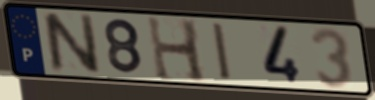3: (310, 24, 357, 92)
4: (260, 23, 308, 87)
8: (102, 16, 146, 76)
H: (144, 14, 210, 84)
I: (209, 21, 235, 83)
N: (39, 11, 103, 75)
